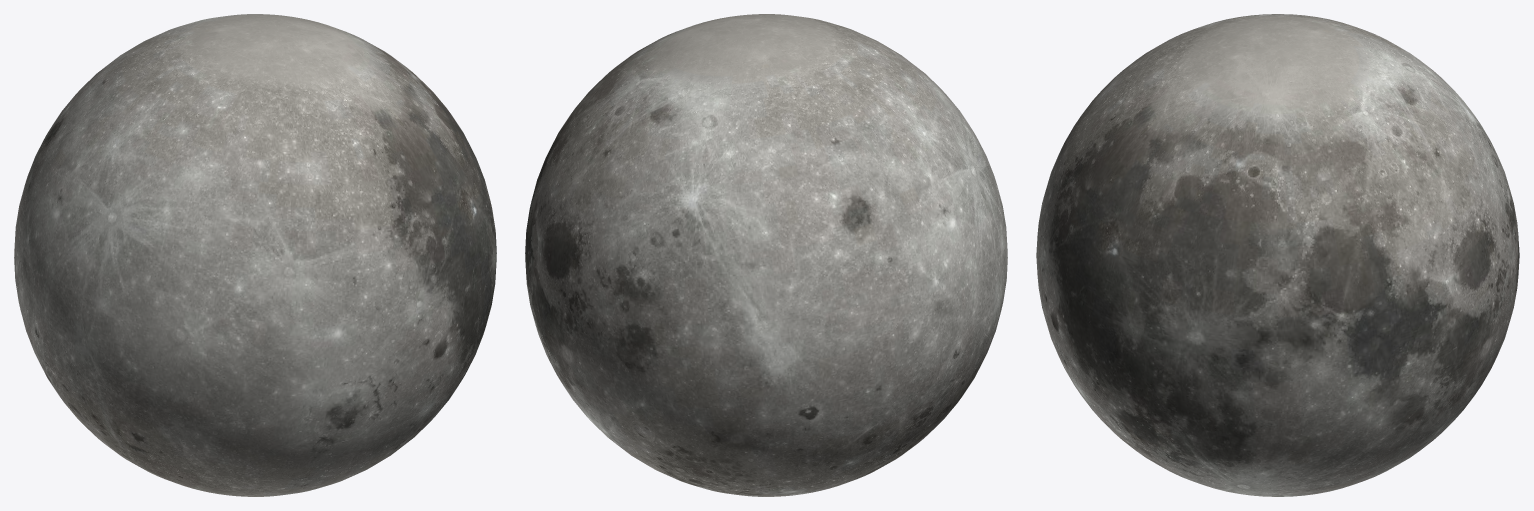
Rendered from moon.glb.
The picture shows the model from 3 angles, left to right: view 1: azimuth 30°, elevation 25°; view 2: azimuth 150°, elevation 25°; view 3: azimuth 270°, elevation 25°; orthographic projection.
Parts seen in each view (by area): view 1: moon; view 2: moon; view 3: moon.
Boxes of the visible parts, x1=… form: moon: x1=14, y1=14, x2=496, y2=496; moon: x1=525, y1=14, x2=1007, y2=496; moon: x1=1036, y1=14, x2=1519, y2=496.
Size of the model in its own units: 2 by 2 by 2.
Materials: 1 (1 with a texture image).
